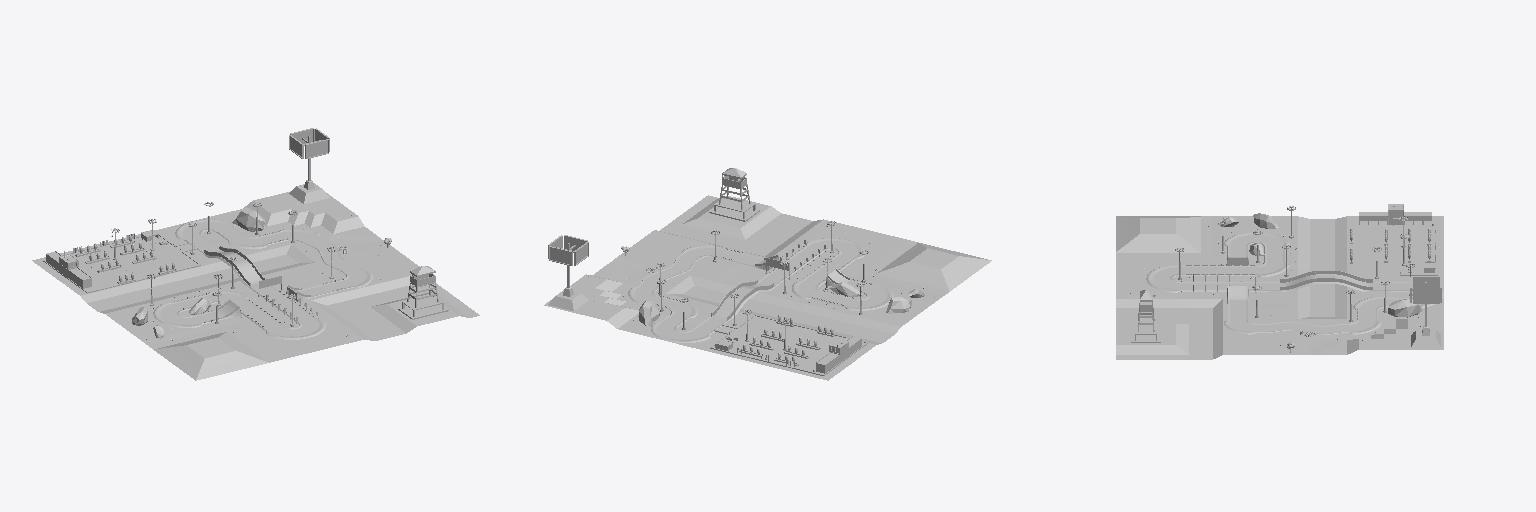
The model's file is track1.obj.
The picture shows the model from 3 angles: view 1: azimuth 30°, elevation 25°; view 2: azimuth 150°, elevation 25°; view 3: azimuth 270°, elevation 25°; orthographic projection.
Visible parts, largest first — view 1: Earth, parking, bridge, tower.001, tower, garages, crooked_road, road_180, road_180.001, road_180.002, road.002, springboard (+1 smaller); view 2: Earth, parking, bridge, tower.001, tower, garages, crooked_road, road_180.002, road_180.001, road_180, road.002, springboard; view 3: Earth, parking, bridge, tower.001, garages, crooked_road, tower, road_180, springboard, road.002, road_180.001, road_90_fix.
Part boxes in pixels (x1,y1,x2,y2): Earth: (32, 191, 479, 380); parking: (43, 235, 200, 293); bridge: (184, 235, 315, 323); tower.001: (289, 128, 329, 203); tower: (402, 266, 443, 316); garages: (46, 251, 91, 288); crooked_road: (300, 237, 363, 274); road_180: (266, 319, 325, 339); road_180.001: (153, 303, 201, 327); road_180.002: (175, 219, 235, 239); road.002: (233, 299, 283, 331); springboard: (286, 280, 353, 301); Earth: (544, 195, 991, 380); parking: (710, 315, 867, 375); bridge: (693, 246, 823, 334); tower.001: (548, 235, 588, 310); tower: (714, 168, 755, 218); garages: (816, 335, 861, 373); crooked_road: (638, 253, 700, 290); road_180.002: (651, 322, 710, 342); road_180.001: (845, 285, 893, 310); road_180: (805, 238, 865, 258); road.002: (801, 254, 856, 286); springboard: (712, 249, 779, 270); Earth: (1116, 216, 1443, 359); parking: (1348, 219, 1437, 281); bridge: (1180, 271, 1409, 291); tower.001: (1410, 276, 1441, 347); garages: (1359, 204, 1431, 225); crooked_road: (1257, 322, 1348, 334); tower: (1135, 290, 1156, 340); road_180: (1146, 265, 1179, 292); springboard: (1227, 285, 1248, 319); road.002: (1181, 266, 1256, 275); road_180.001: (1224, 232, 1289, 245); road_90_fix: (1353, 297, 1384, 319).
Bounding box in the file's own units: 44.74 × 10.66 × 44.74.